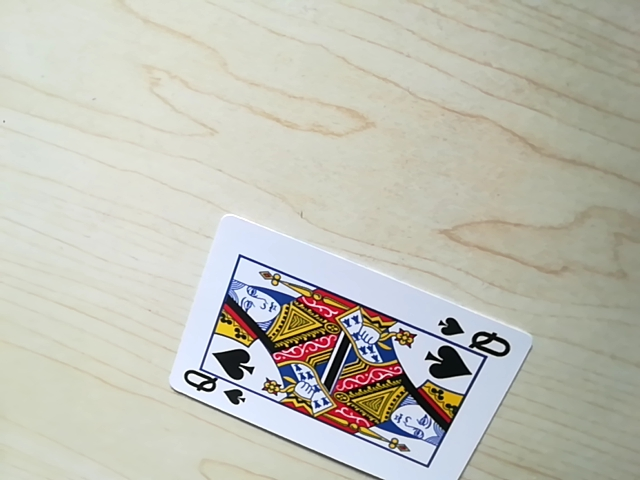ht q: (431, 316, 514, 355), (178, 368, 251, 408)
